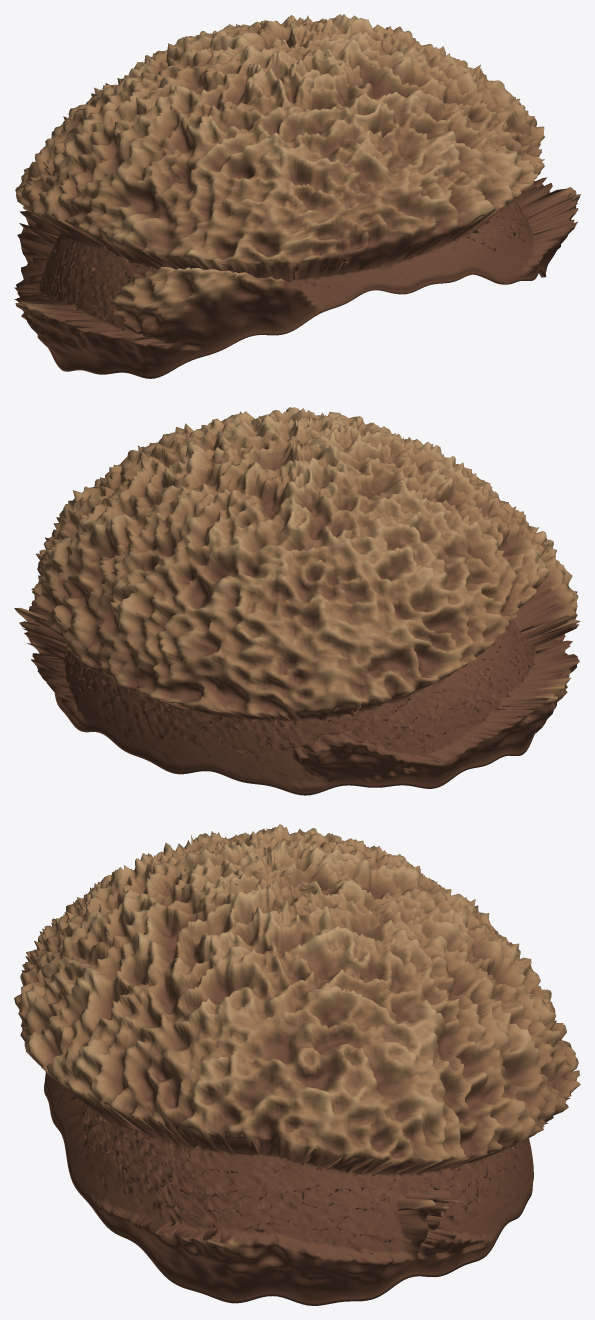
Rendered from Ombre-5fcf2b980144253-hair.glb.
3 renders of one model, top to bottom at view 1: azimuth 30°, elevation 25°; view 2: azimuth 150°, elevation 25°; view 3: azimuth 270°, elevation 25°, orthographic. The views are drawn at different scales.
Parts seen in each view (by area): view 1: 226 hair / Hair252 / dense natural coil groups.001; view 2: 226 hair / Hair252 / dense natural coil groups.001; view 3: 226 hair / Hair252 / dense natural coil groups.001.
Part boxes in pixels (x1,y1,x2,y2): 226 hair / Hair252 / dense natural coil groups.001: (14,14,580,378); 226 hair / Hair252 / dense natural coil groups.001: (14,407,580,795); 226 hair / Hair252 / dense natural coil groups.001: (14,824,580,1305).
Bounding box in the file's own units: 1.12 × 0.548 × 0.8804.
1 material, 1 textured.
